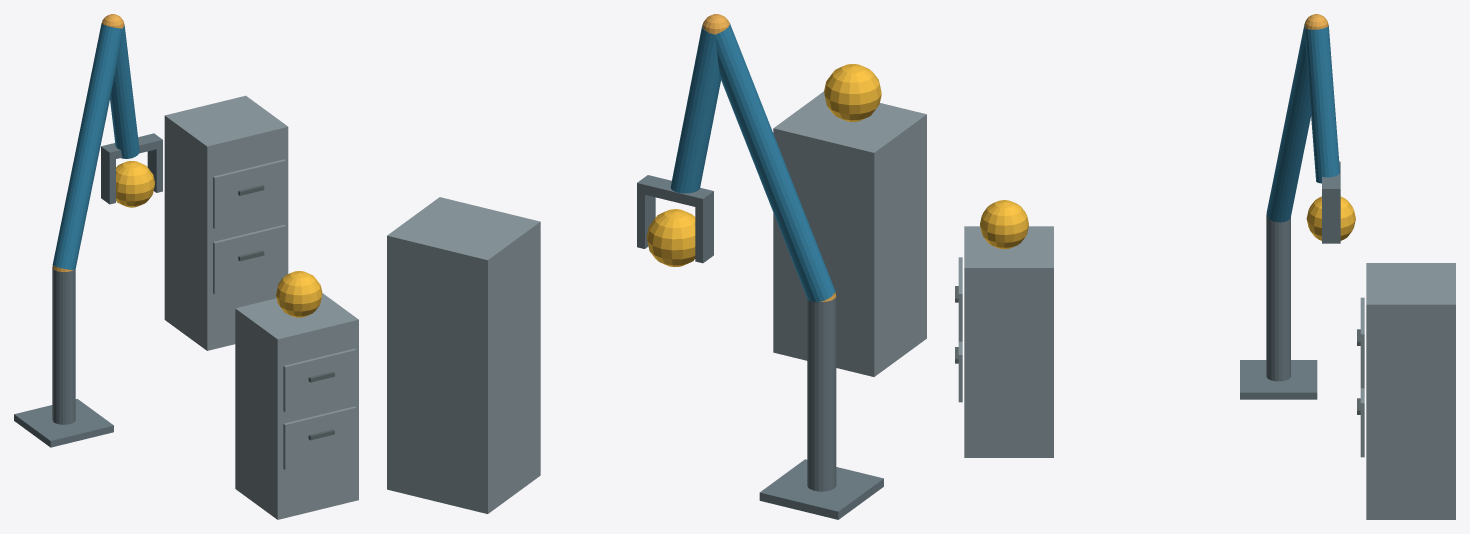
3 renders of one model, left to right at view 1: azimuth 30°, elevation 25°; view 2: azimuth 150°, elevation 25°; view 3: azimuth 270°, elevation 25°, orthographic. The views are drawn at different scales.
Parts seen in each view (by area): view 1: cabinet_2 body, cabinet_1 body, moving link 1, cabinet_2 drawer front.001, cabinet_2 drawer front, fixed post, cabinet_1 drawer front, cabinet_1 drawer front.001, pedestal, moving link 2, released ball_1, ball ball_2 (+3 smaller); view 2: cabinet_2 body, cabinet_1 body, moving link 1, fixed post, moving link 2, pedestal, released ball_1, ball ball_2, gripper bridge, gripper finger -1, gripper finger 1; view 3: cabinet_2 body, cabinet_1 body, fixed post, moving link 1, moving link 2, pedestal, released ball_1, ball ball_2, gripper finger 1.
Part boxes in pixels (x1,y1,x2,y2): cabinet_2 body: (164, 95, 288, 350); cabinet_1 body: (235, 293, 358, 519); moving link 1: (52, 23, 122, 269); cabinet_2 drawer front.001: (213, 159, 286, 228); cabinet_2 drawer front: (213, 224, 286, 294); fixed post: (52, 267, 75, 424); cabinet_1 drawer front: (283, 406, 356, 469); cabinet_1 drawer front.001: (283, 348, 356, 412); pedestal: (14, 399, 113, 447); moving link 2: (110, 24, 139, 158); released ball_1: (276, 271, 322, 317); ball ball_2: (116, 161, 154, 207); cabinet_2 body: (387, 197, 540, 513); cabinet_1 body: (773, 91, 926, 376); moving link 1: (715, 23, 835, 302); fixed post: (807, 295, 836, 491); moving link 2: (670, 25, 720, 193); pedestal: (759, 459, 883, 519); released ball_1: (824, 64, 881, 121); ball ball_2: (646, 209, 695, 266); gripper bridge: (637, 175, 713, 208); gripper finger -1: (695, 201, 713, 263); gripper finger 1: (637, 193, 655, 248); cabinet_2 body: (1366, 263, 1455, 519); cabinet_1 body: (964, 226, 1053, 457); fixed post: (1266, 216, 1290, 381); moving link 1: (1266, 23, 1310, 222); moving link 2: (1305, 25, 1339, 183); pedestal: (1240, 360, 1317, 399); released ball_1: (980, 200, 1028, 249); ball ball_2: (1306, 196, 1355, 240); gripper finger 1: (1322, 197, 1340, 243).
Size of the model in its own units: 1.17 by 1.44 by 1.62.
